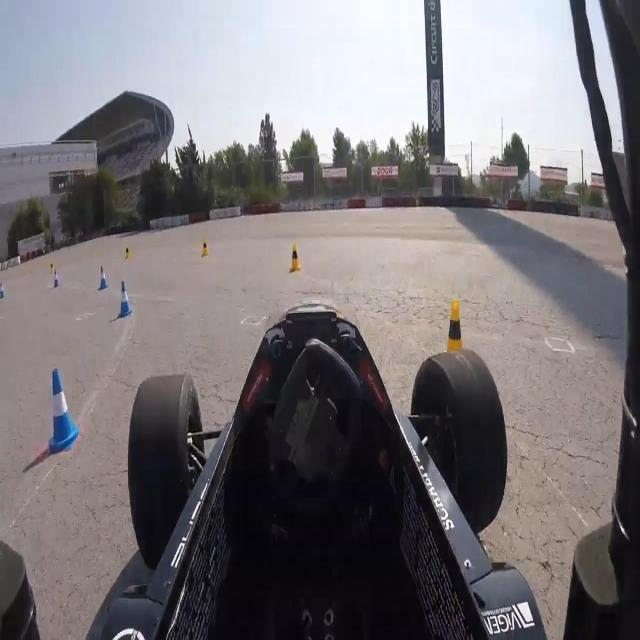blue_cone: (48, 367, 80, 454), (119, 281, 131, 319), (99, 267, 108, 290)
yellow_cone: (438, 300, 470, 398), (290, 243, 300, 272)
